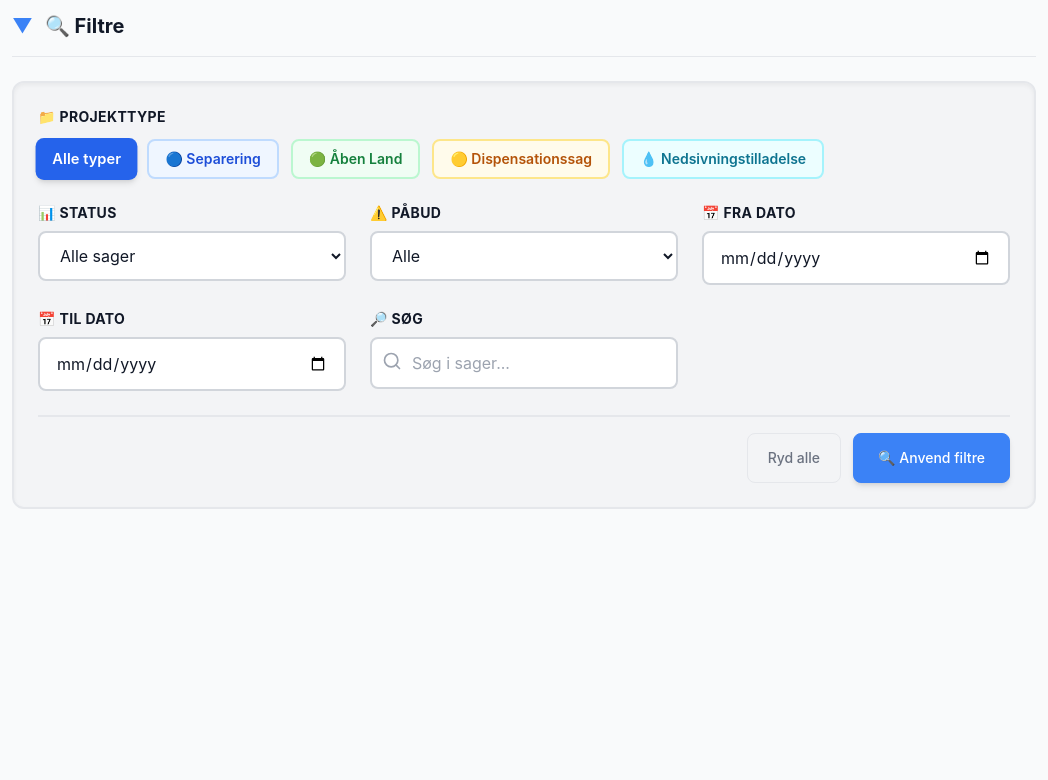
SagerFilters › shows clear all button when filters are active
The image size is (1048, 780).
# Click Separering filter
Step 1. Click the button "🔵 Separering" → click(213, 159), box [147, 139, 279, 179]
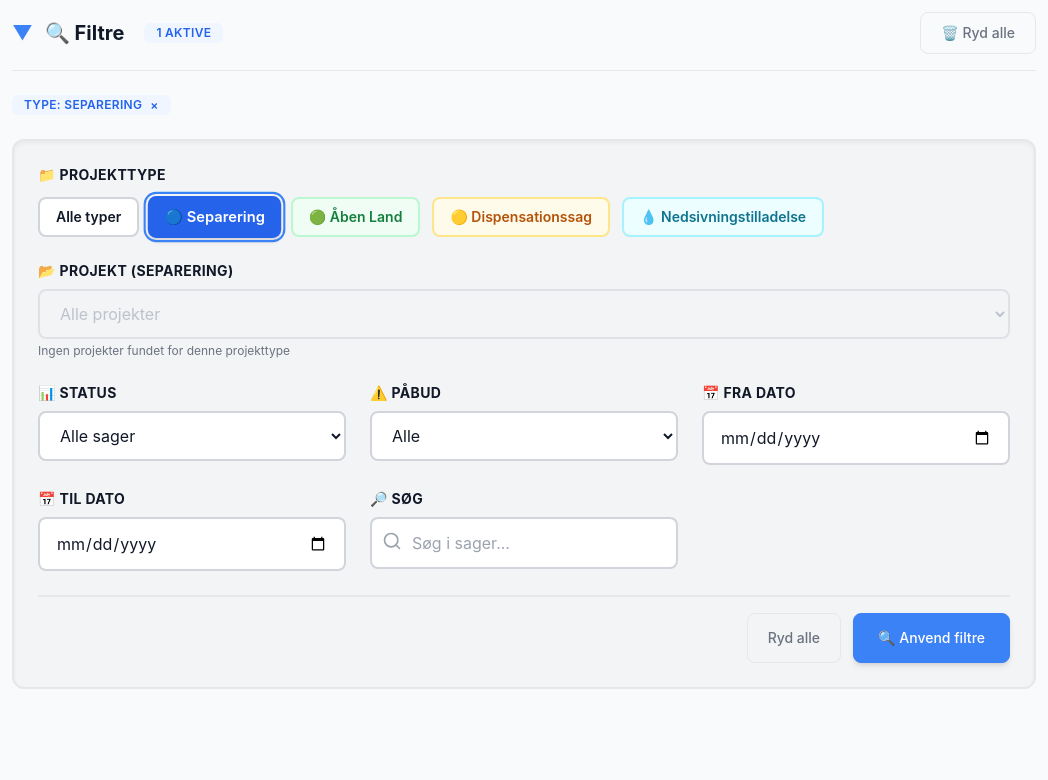
Result: the text "🗑️ Ryd alle" is shown at [941, 23, 1015, 43]
